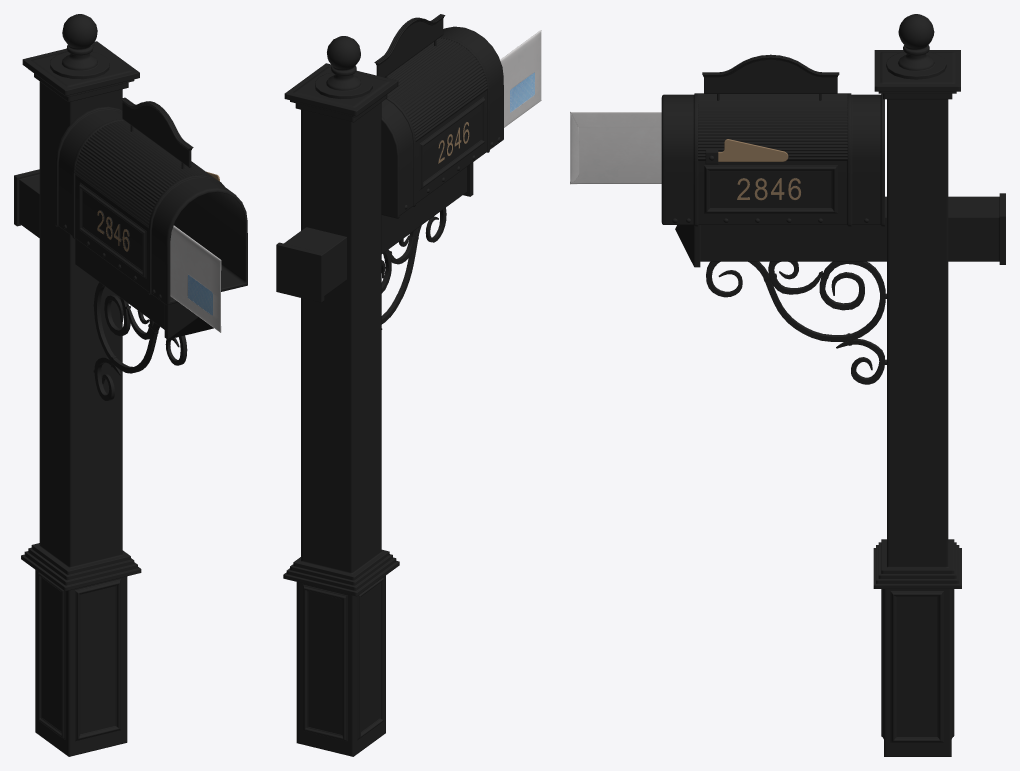
Rendered from contact.glb.
The picture shows the model from 3 angles, left to right: view 1: azimuth 30°, elevation 25°; view 2: azimuth 150°, elevation 25°; view 3: azimuth 270°, elevation 25°; orthographic projection. The views are drawn at different scales.
Parts seen in each view (by area): view 1: Mail_Stand_02, Mailbox_02, Envelope_02, Gold_Numbers; view 2: Mail_Stand_02, Mailbox_02, Envelope_02, Gold_Numbers; view 3: Mail_Stand_02, Mailbox_02, Envelope_02, Gold_Numbers.
Part boxes in pixels (x1,y1,x2,y2): Mail_Stand_02: (14, 14, 213, 756); Mailbox_02: (55, 97, 247, 305); Envelope_02: (170, 225, 221, 332); Gold_Numbers: (97, 171, 219, 251); Mail_Stand_02: (276, 36, 473, 756); Mailbox_02: (374, 14, 503, 218); Envelope_02: (500, 30, 541, 127); Gold_Numbers: (437, 121, 469, 163); Mail_Stand_02: (675, 14, 1005, 756); Mailbox_02: (661, 54, 884, 226); Envelope_02: (570, 112, 661, 184); Gold_Numbers: (718, 139, 801, 200).
Bounding box in the file's own units: 0.3624 × 2.79 × 1.52.
4 materials, 4 textured.
